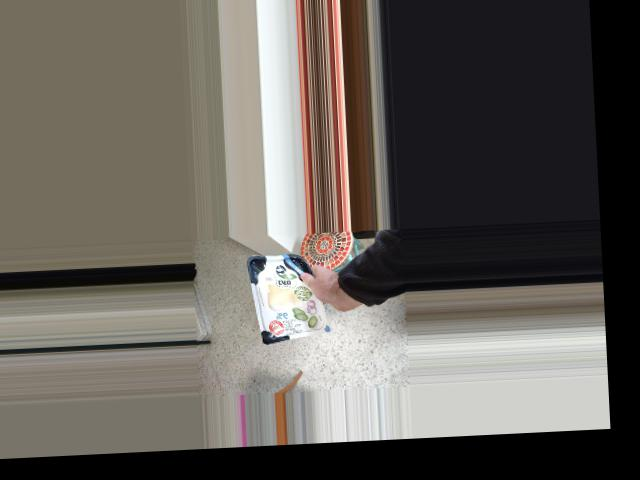cheese: (270, 267, 343, 341)
